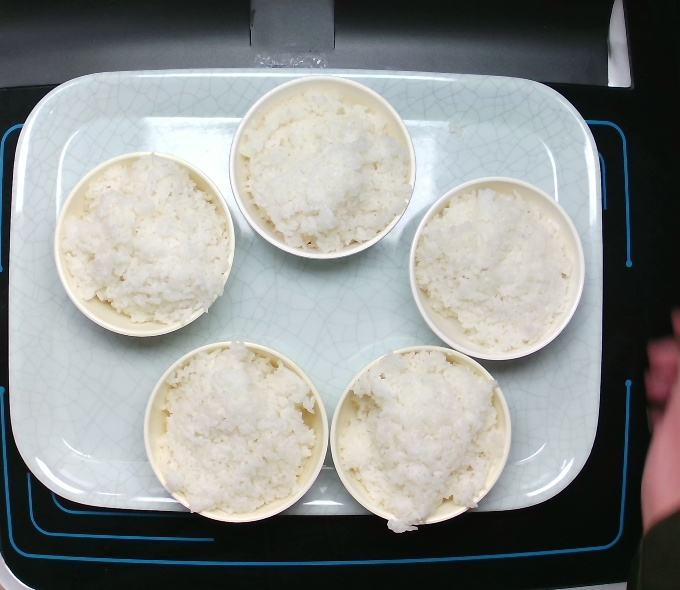wcq-MiFan: (334, 346, 509, 537), (233, 85, 415, 256), (410, 186, 592, 357), (150, 346, 323, 523), (59, 159, 229, 337)
